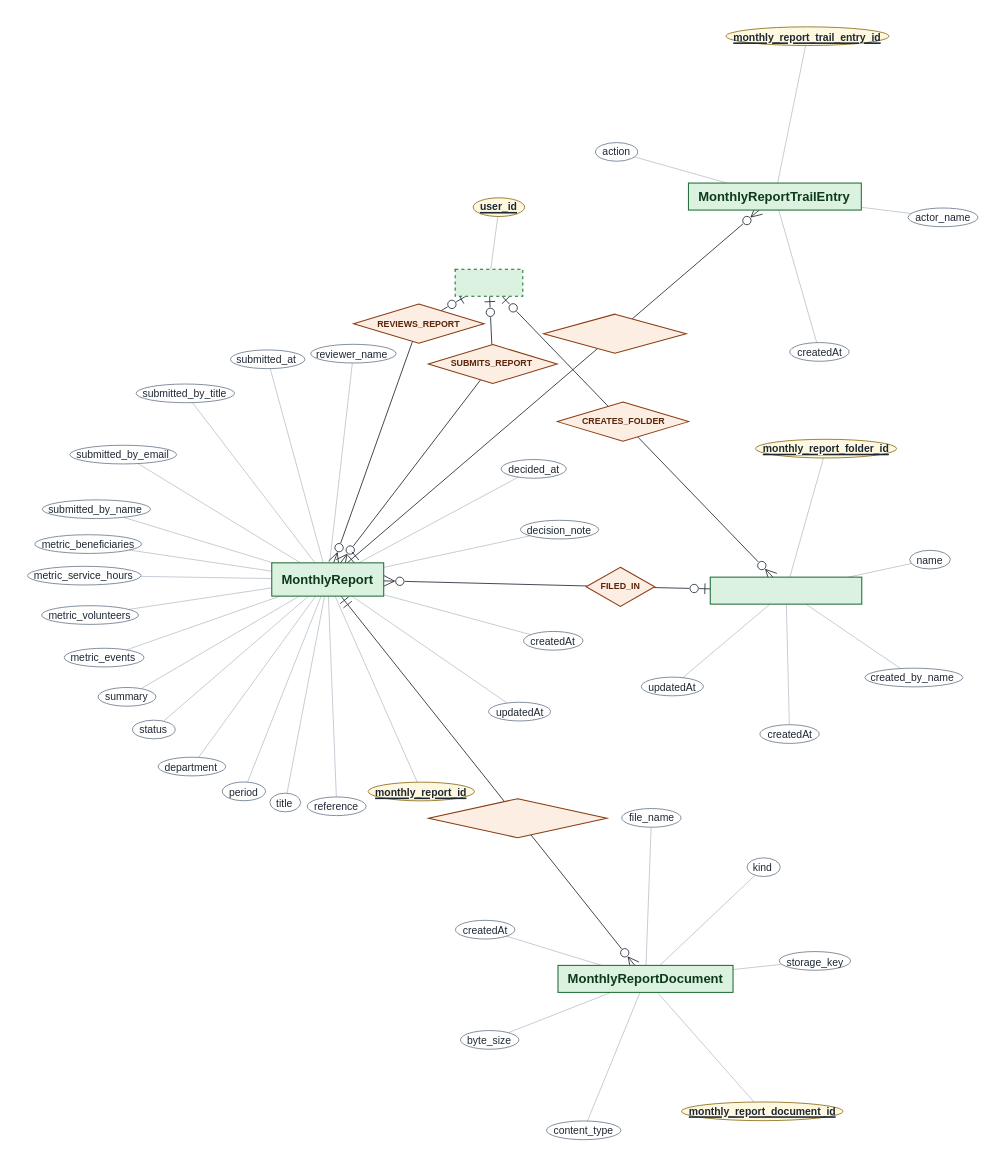
Image size: 1005x1168. Some labels were removed from this diagram. The box of each missing label's shape, as (x1, y1, x2, y2) in pixels:
MonthlyReportFolder: (709, 576, 862, 604)
REPORT_HAS_DOCUMENT: (427, 797, 607, 838)
REPORT_HAS_TRAIL: (542, 313, 686, 353)
User: (454, 268, 523, 296)
